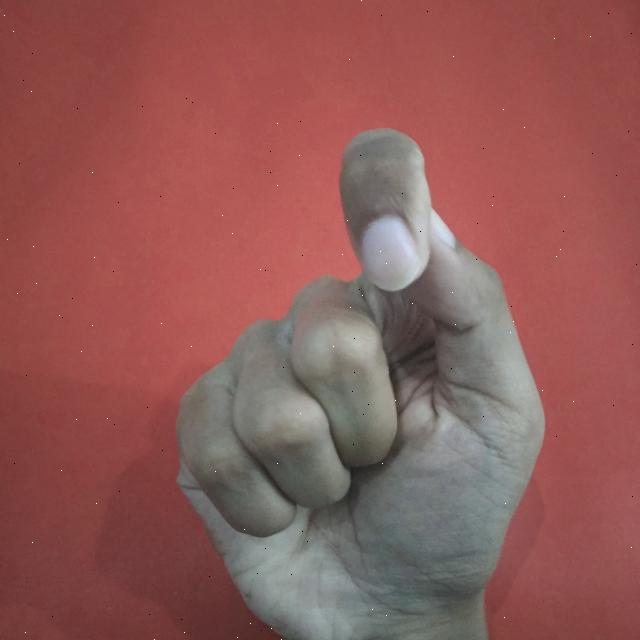T: (171, 120, 553, 640)
